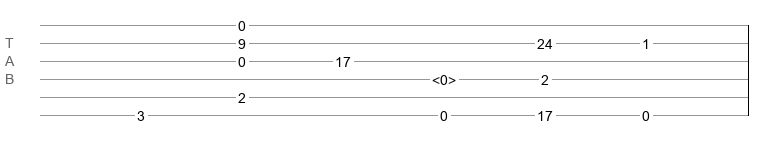0: (238, 18, 246, 28), (238, 54, 246, 64), (440, 108, 448, 118), (642, 108, 650, 118)
1: (642, 36, 650, 46)
17: (335, 54, 351, 64), (537, 108, 553, 118)
2: (238, 90, 246, 100), (541, 72, 549, 82)
24: (537, 36, 553, 46)
3: (137, 108, 145, 118)
9: (238, 36, 246, 46)
harmonic: (432, 72, 456, 82)
